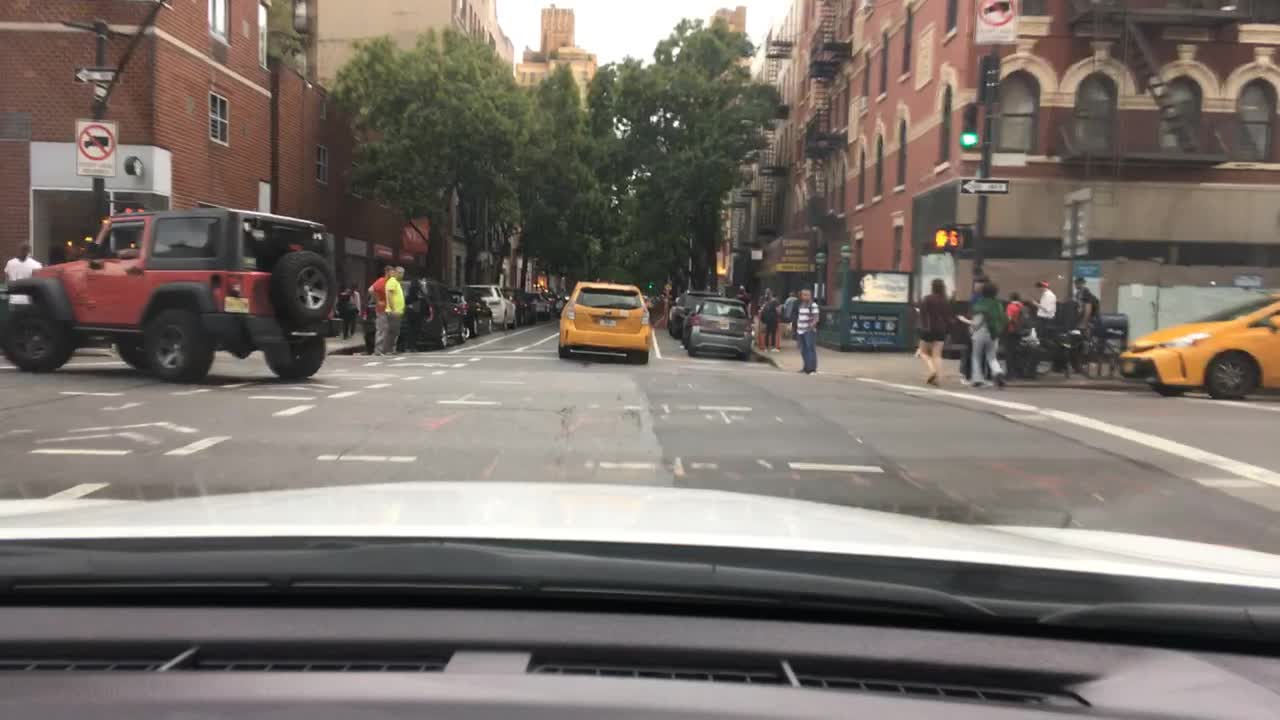bike: (1025, 323, 1117, 381)
car: (1, 206, 337, 383), (1117, 292, 1277, 399), (557, 279, 655, 362), (683, 297, 754, 360), (668, 290, 721, 339), (463, 283, 517, 330), (447, 286, 493, 335), (500, 285, 537, 324), (524, 291, 553, 320), (665, 297, 681, 326), (545, 293, 564, 313), (553, 294, 565, 314), (639, 294, 648, 305), (561, 292, 570, 301), (650, 295, 658, 305)
person: (956, 281, 1006, 388), (913, 276, 953, 384), (1068, 277, 1100, 371), (1027, 275, 1056, 369), (964, 276, 990, 380), (365, 263, 391, 355), (381, 263, 406, 356), (404, 277, 433, 355), (793, 290, 820, 373), (1002, 289, 1025, 376), (4, 241, 41, 282), (336, 279, 360, 339), (761, 297, 780, 354), (791, 291, 805, 346), (783, 287, 797, 325), (759, 286, 773, 308), (736, 284, 746, 298)
traffic light: (977, 53, 1000, 101), (959, 99, 977, 153), (949, 225, 974, 253), (933, 227, 948, 248), (647, 281, 652, 289)
traffic sign: (76, 117, 120, 177), (972, 0, 1018, 44), (1060, 187, 1087, 257), (71, 66, 121, 83), (958, 177, 1009, 193), (1232, 271, 1263, 287), (1072, 261, 1102, 277), (91, 81, 112, 103)
